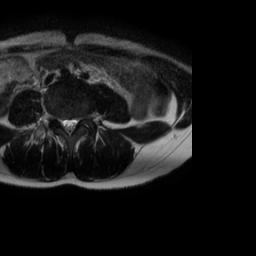CCS_normal: (66, 113, 72, 140)
LFS_severe_stenosis: (80, 109, 87, 126)
LLS_normal: (72, 112, 80, 135)
RFS_severe_stenosis: (52, 110, 60, 128)
RLS_normal: (60, 112, 66, 137)
